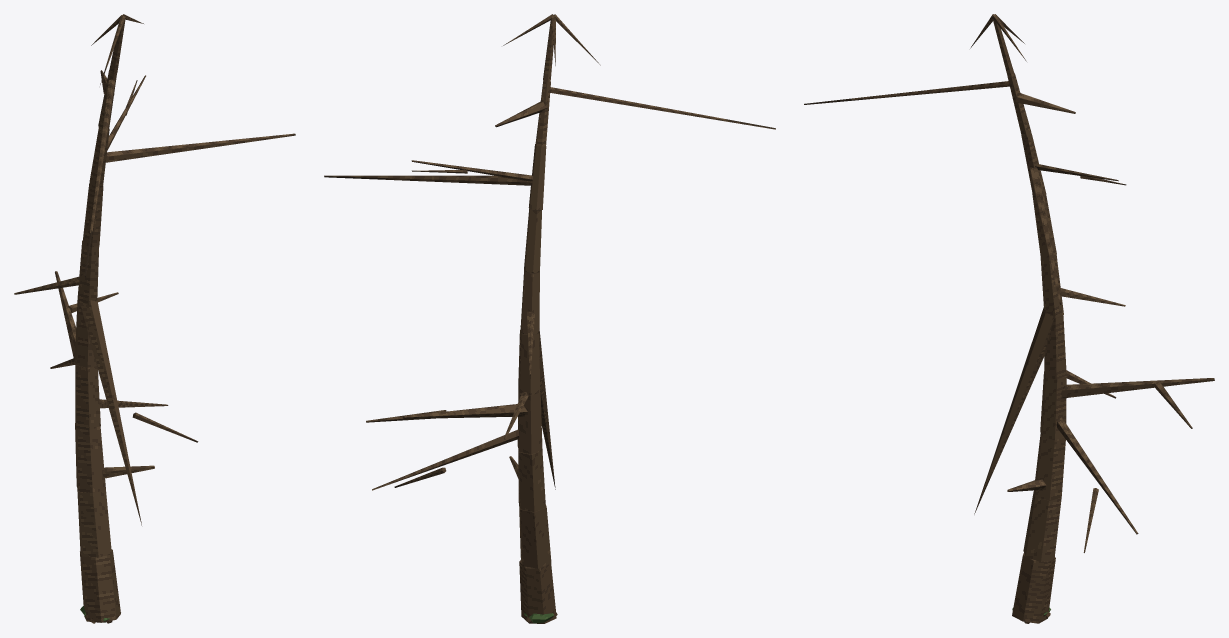
Rendered from snag_07.glb.
The picture shows the model from 3 angles, left to right: view 1: azimuth 30°, elevation 25°; view 2: azimuth 150°, elevation 25°; view 3: azimuth 270°, elevation 25°; orthographic projection. The views are drawn at different scales.
Parts seen in each view (by area): view 1: snag_07; view 2: snag_07; view 3: snag_07.
Boxes of the visible parts, left/top/right/bottom form: snag_07: left=14, top=14, right=295, bottom=623; snag_07: left=324, top=14, right=775, bottom=623; snag_07: left=804, top=14, right=1214, bottom=623.
Bounding box in the file's own units: 5.17 × 8.94 × 5.49.
Materials: 2 (2 with a texture image).
